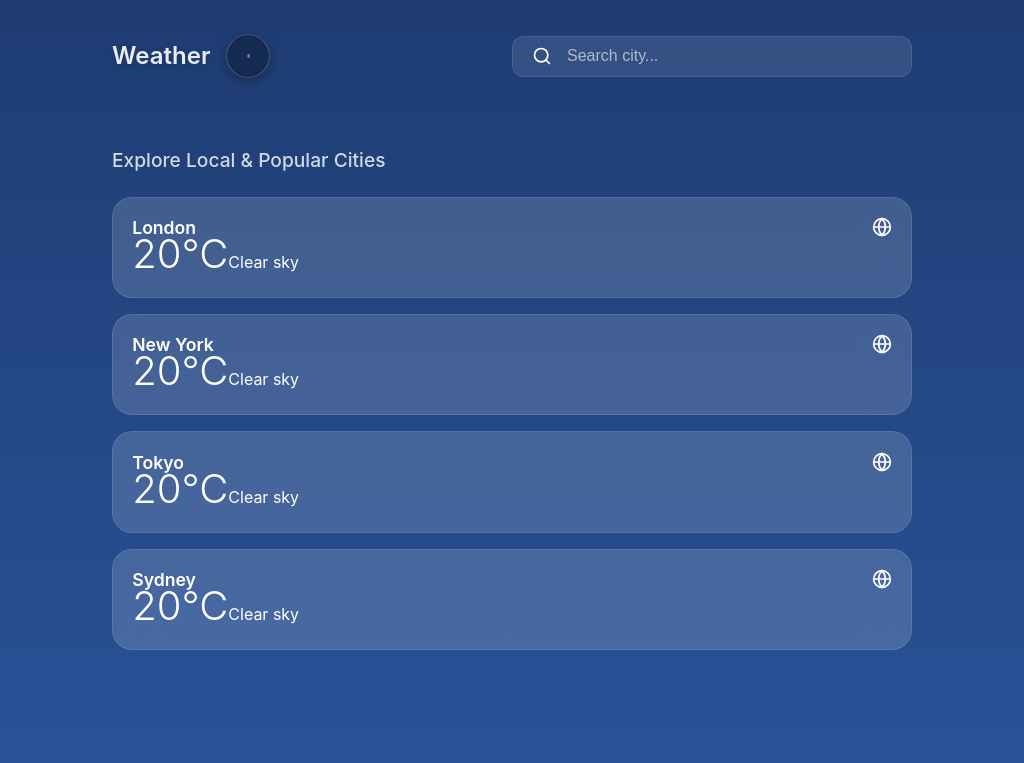
Test: App › refetches in imperial units when the unit system changes
Click the text "London".
click(164, 227)  # box [132, 217, 196, 238]
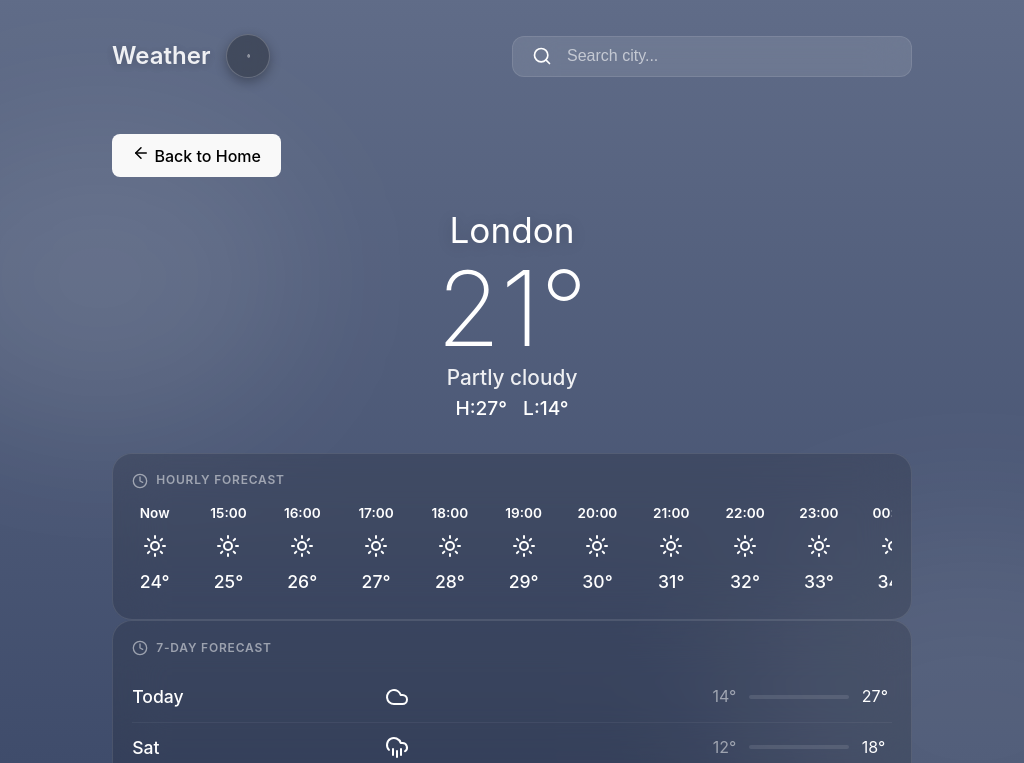
Expected: the heading "London" is shown, [449, 209, 575, 251]
Click the button named "Settings".
click(248, 56)  # box [226, 34, 270, 78]
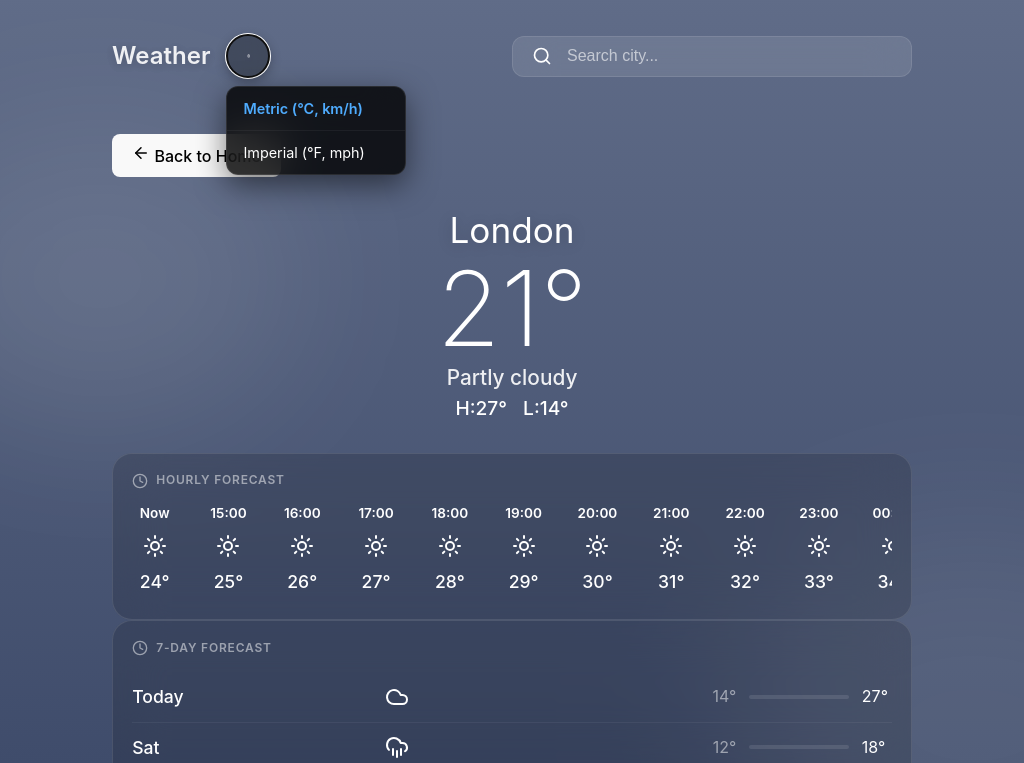
Click the text "Imperial (°F, mph)".
click(304, 152)  # box [243, 144, 365, 161]
(page scrolled)
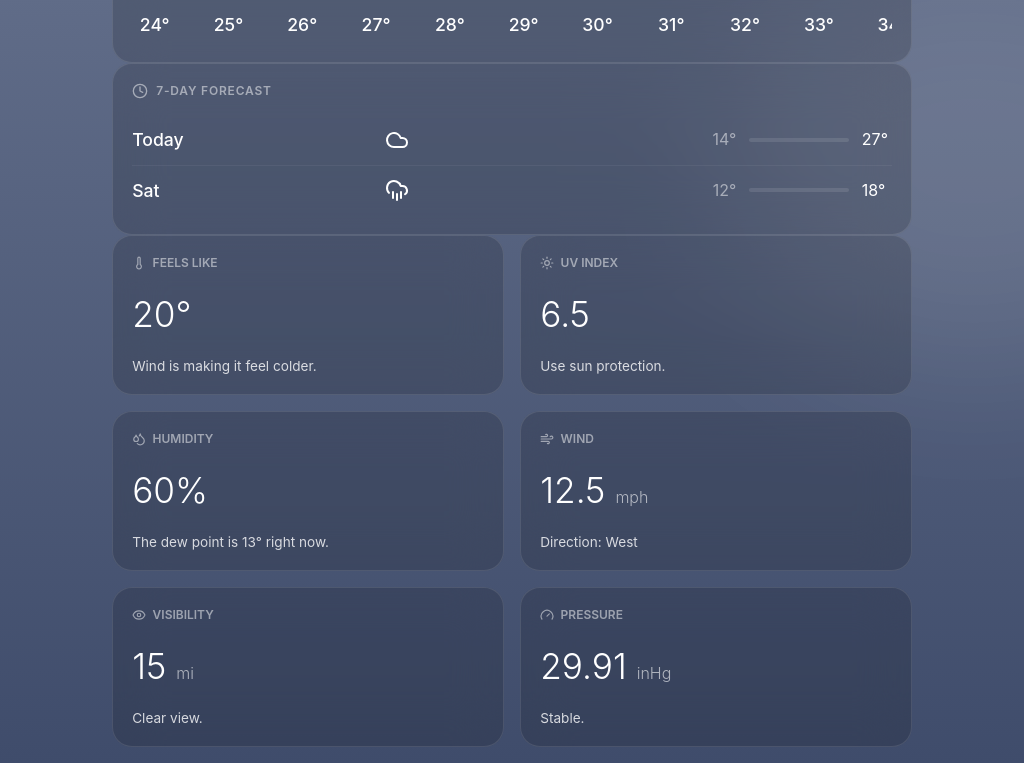
Expected: the text "mph" is shown, [615, 487, 648, 507]
